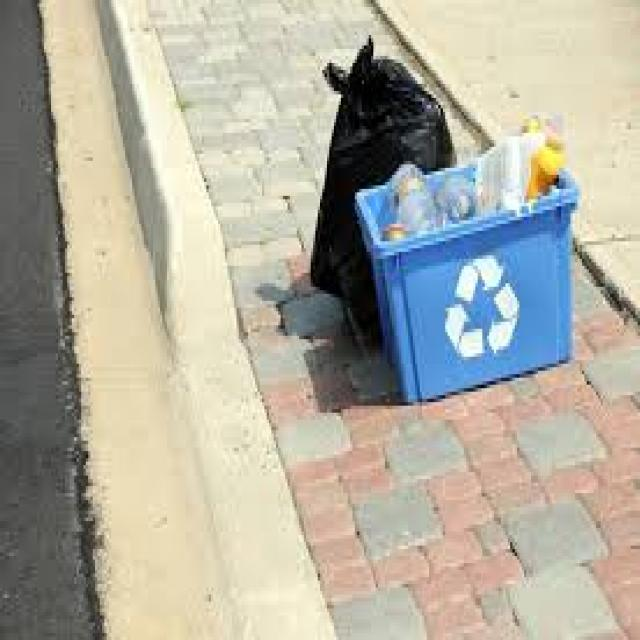plastic_bag: (312, 57, 460, 323)
